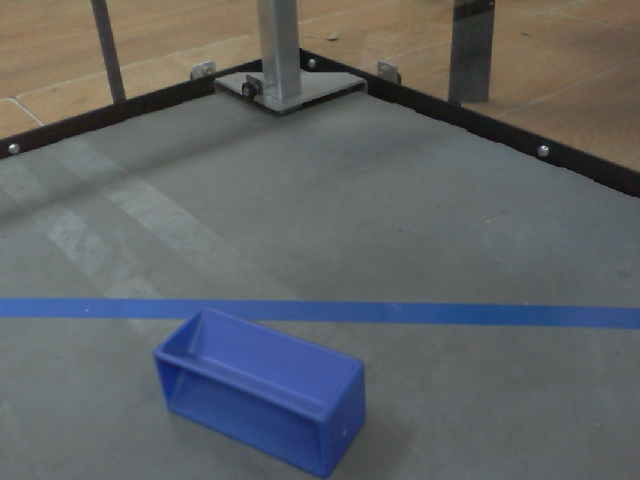BlueSample: (149, 307, 371, 480)
